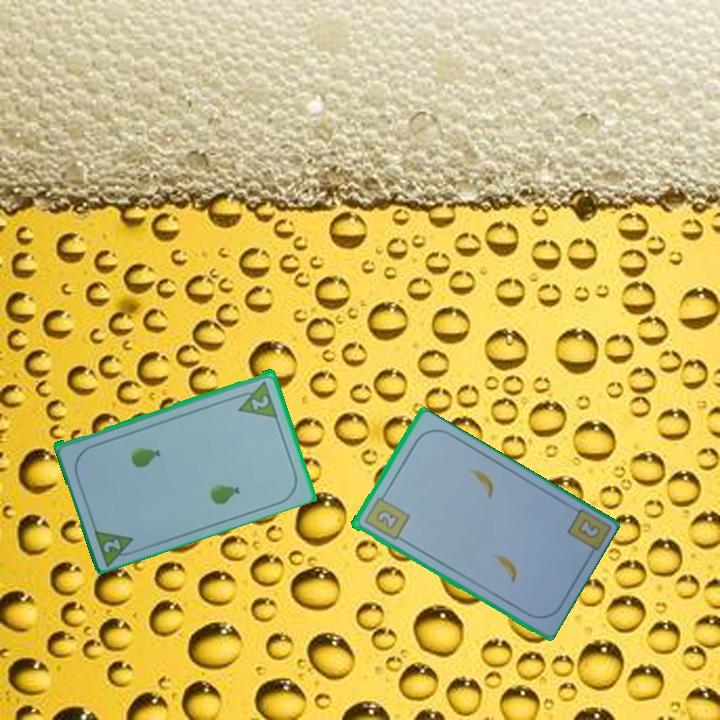2b: (360, 489, 412, 543), (574, 515, 603, 542)
2p: (90, 524, 141, 567), (248, 391, 272, 412)
